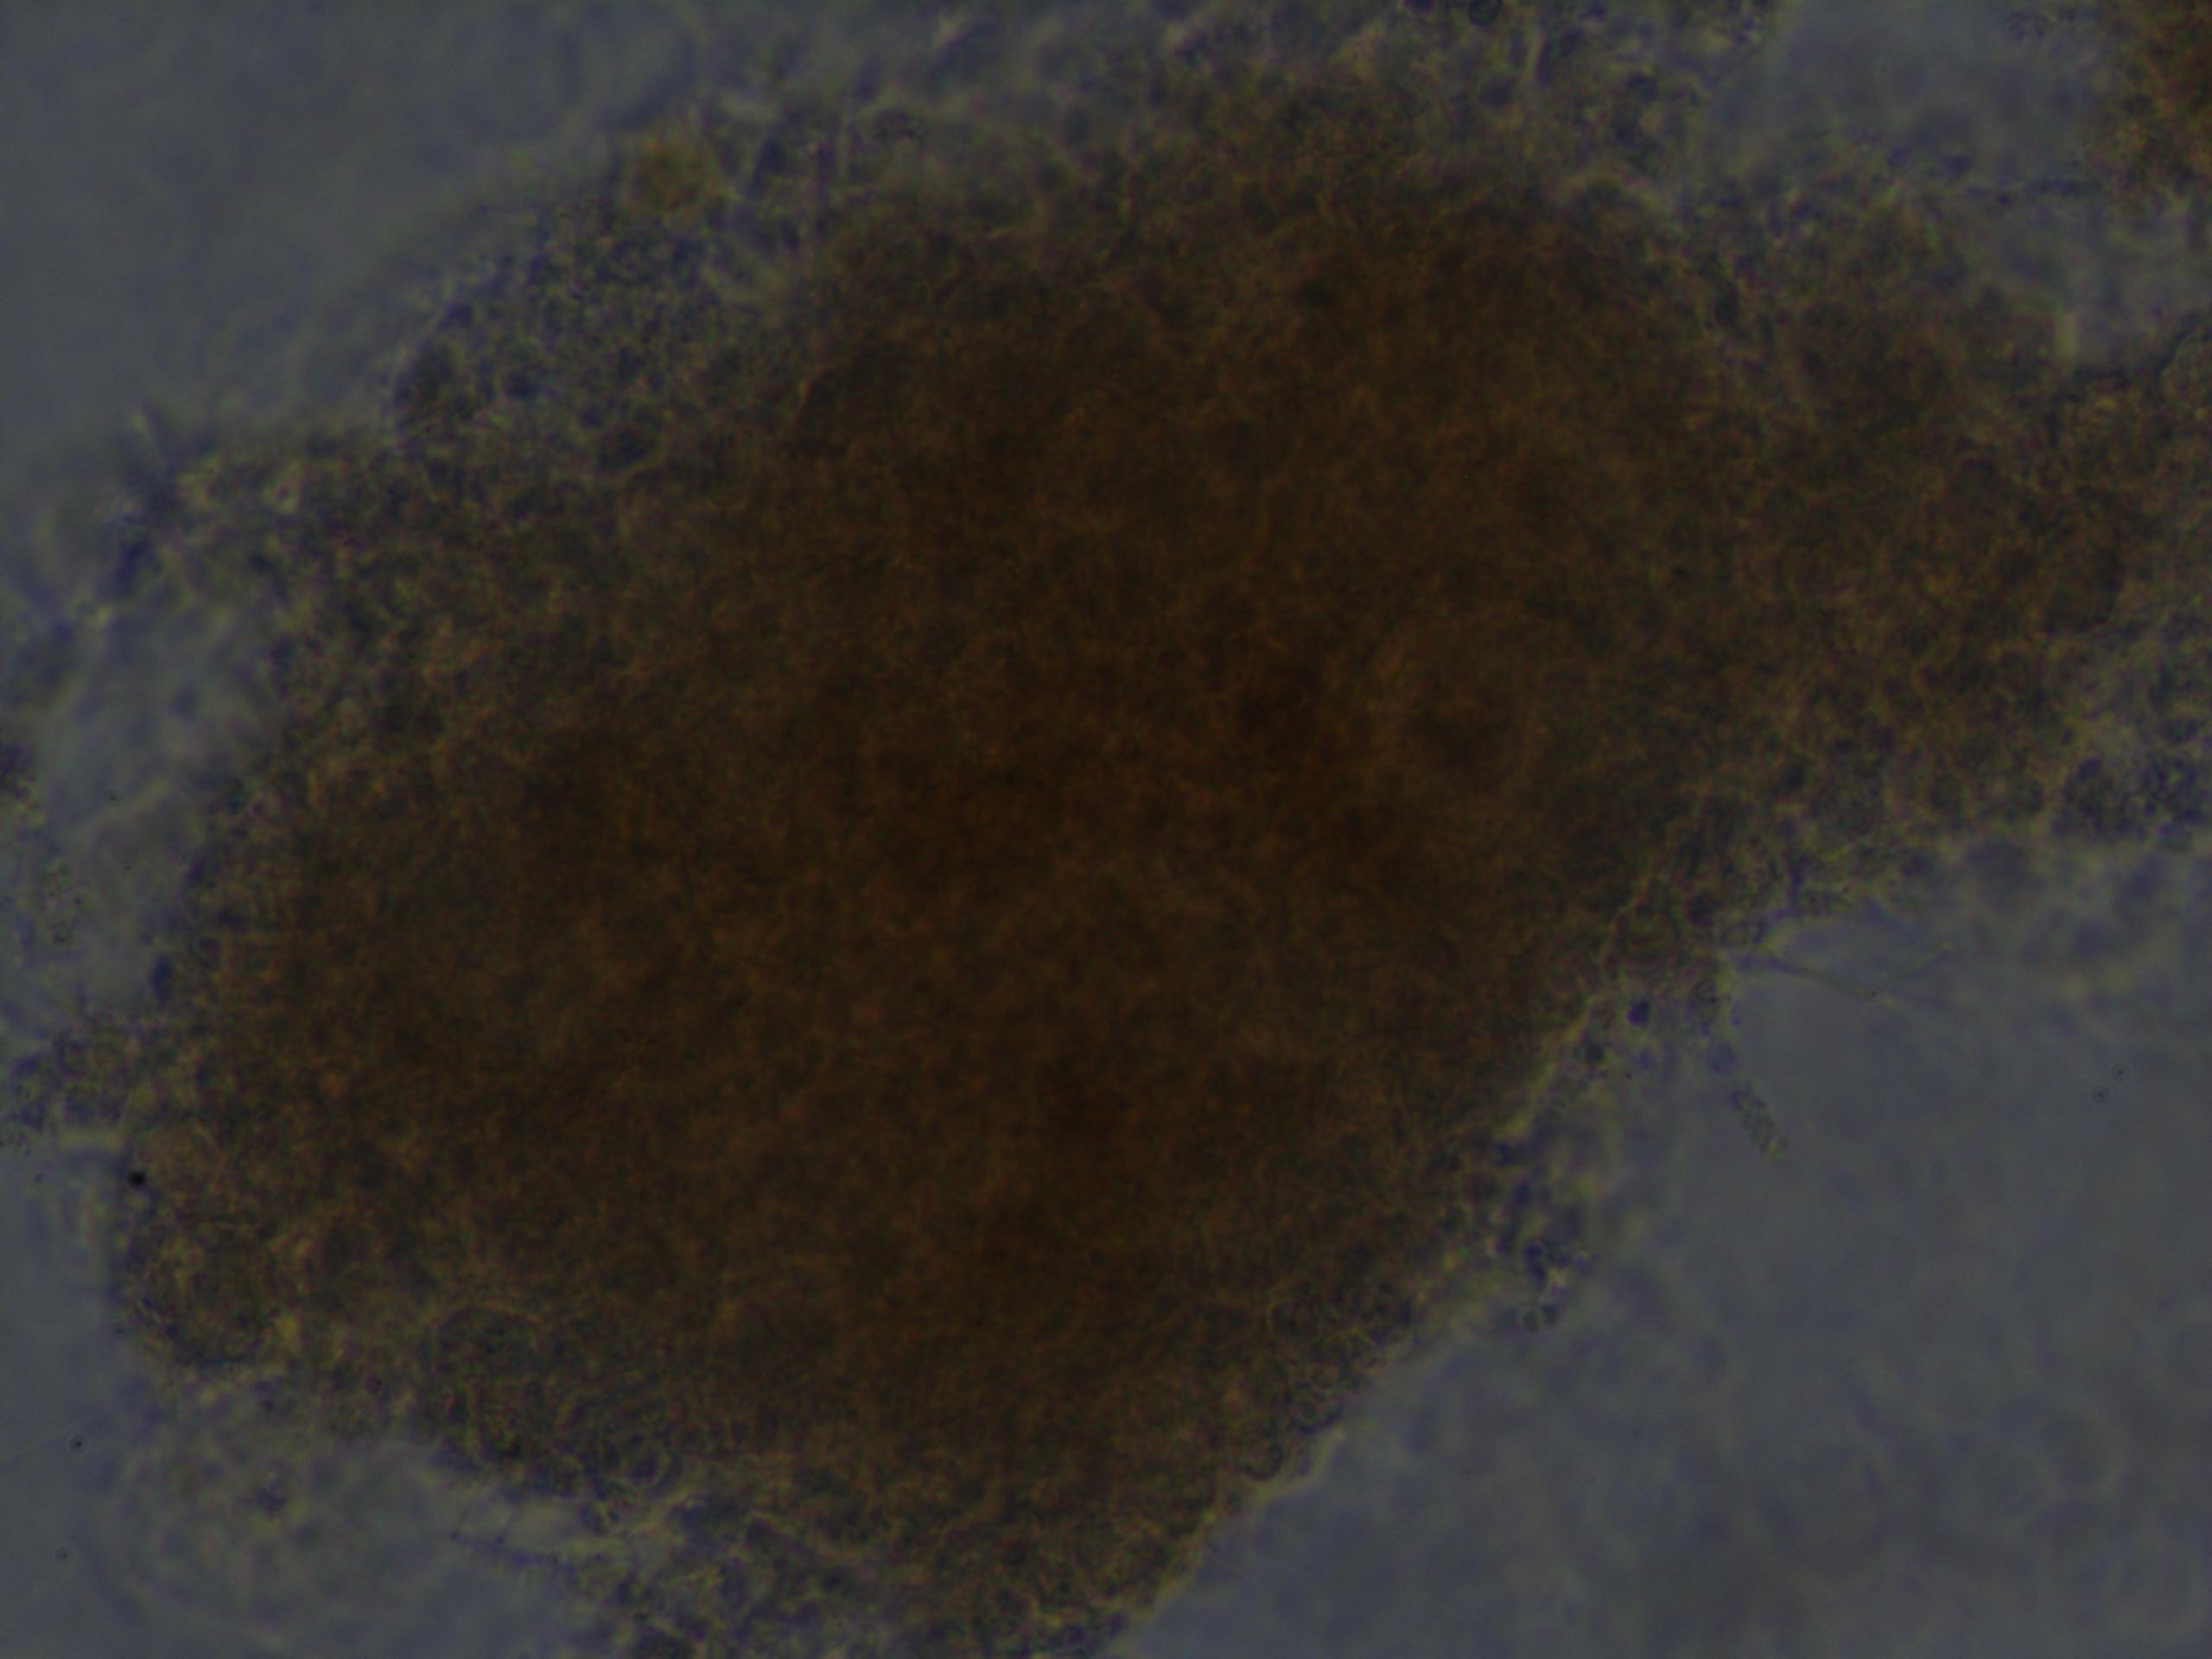spherical_floc: (94, 37, 2200, 1657)
